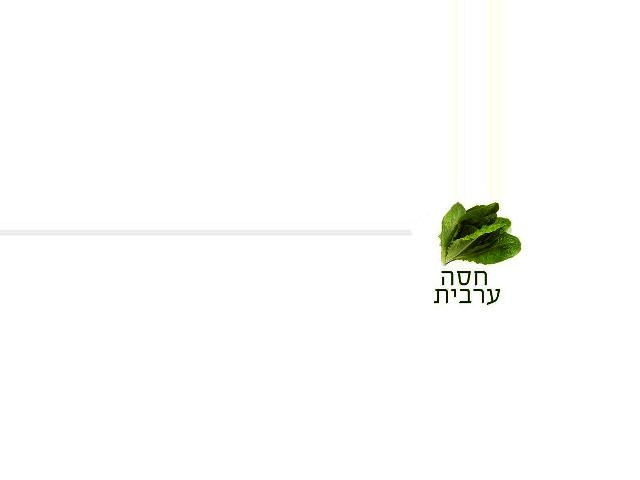lettuce: (434, 202, 521, 272)
